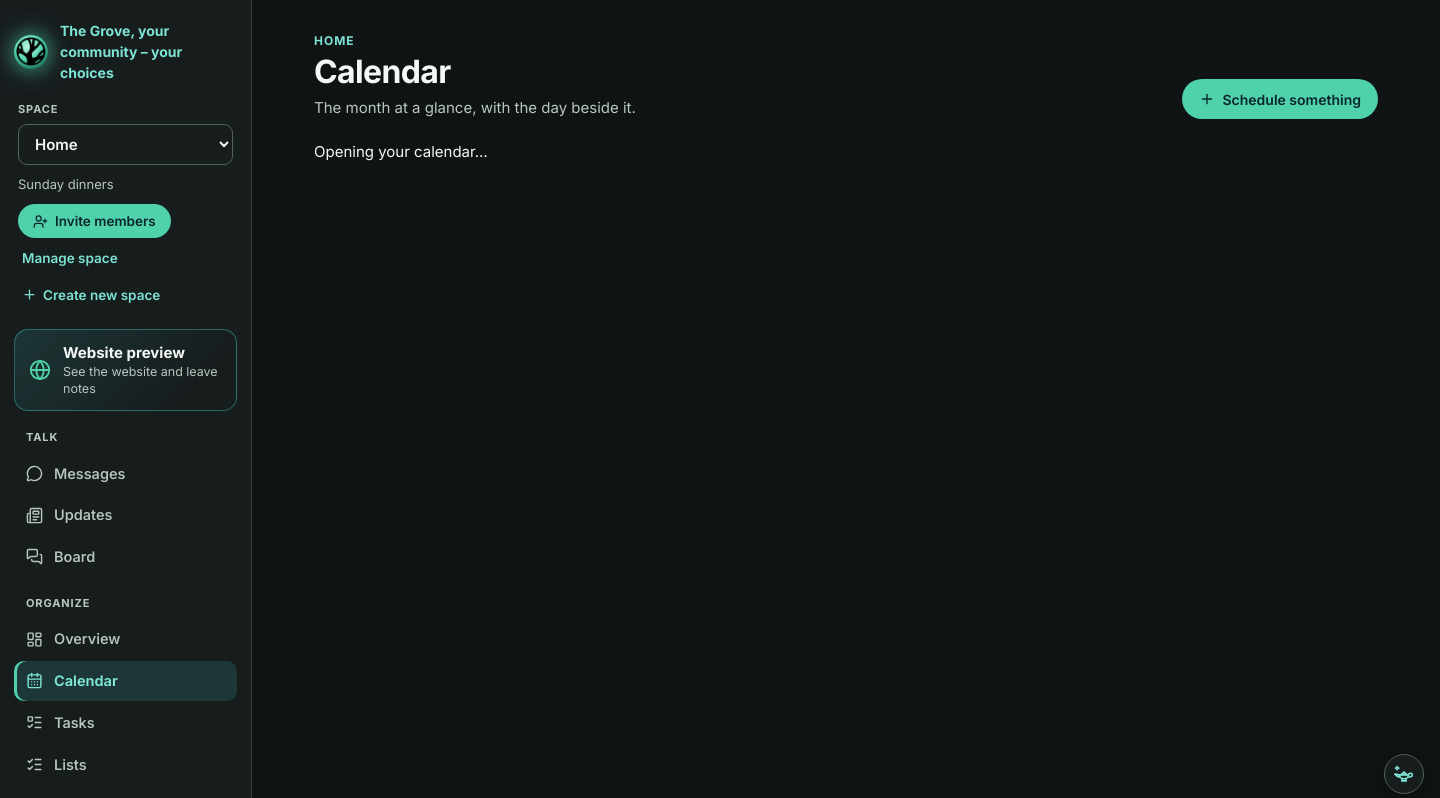
shows the space topic and, to its owners, a way to manage the space
Expected: the text "Sunday dinners" is shown, 18,176 -> 114,192
Select "Team" in the dropdown at point(126, 144), box 18,124 -> 233,164
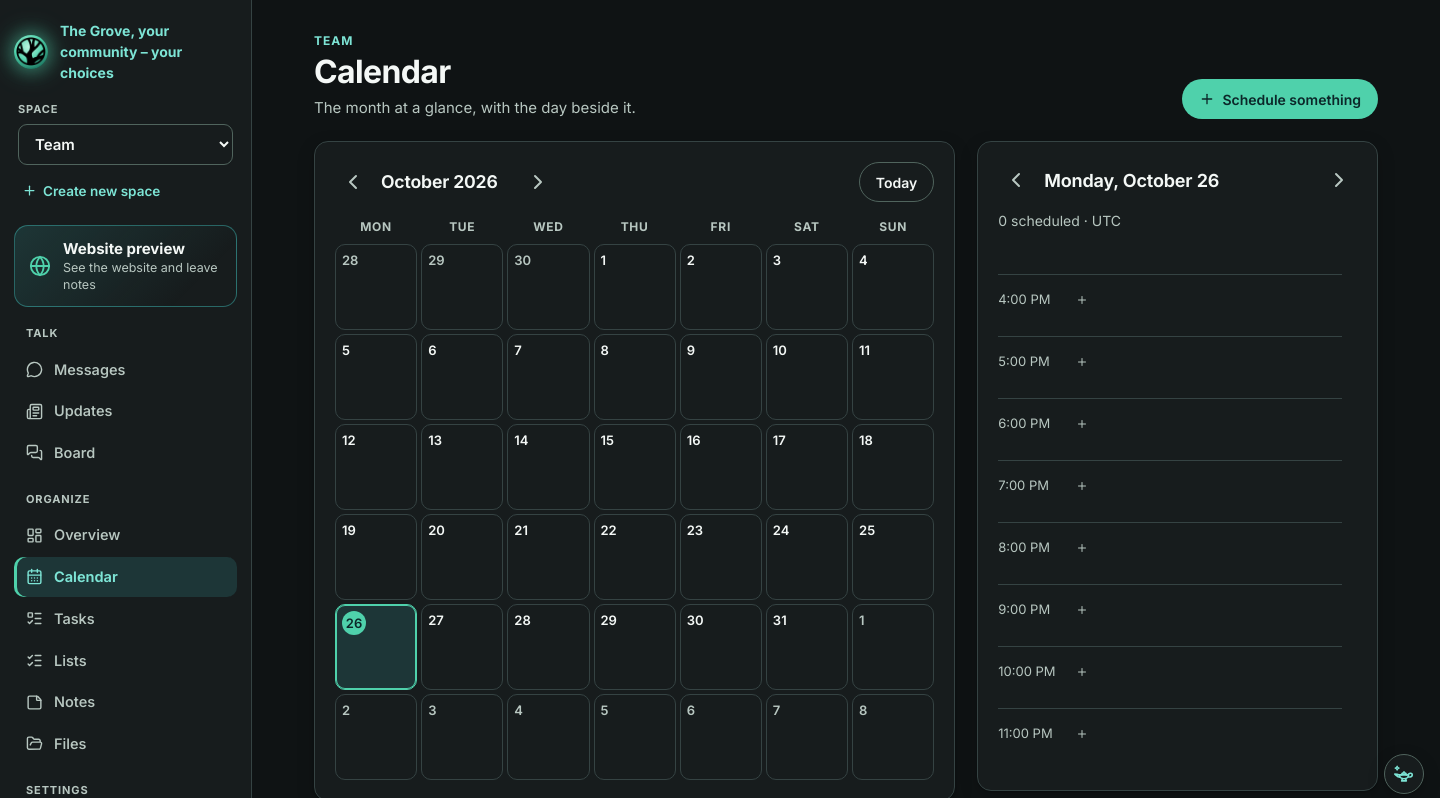
Expected: the link "Manage space" is gone
Expected: the text "Sunday dinners" is gone
